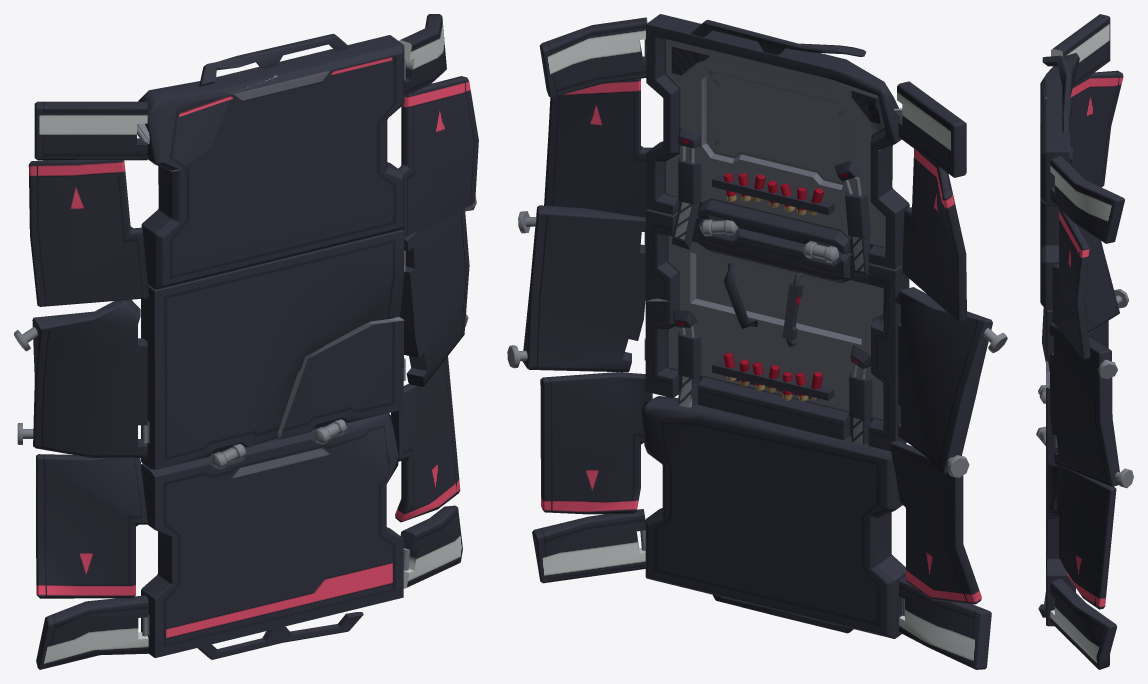
The model's file is FX_Hoshino_Original_Ex01_Obstacle_B.fbx.
3 views of the same model, side by side, from view 1: azimuth 30°, elevation 25°; view 2: azimuth 150°, elevation 25°; view 3: azimuth 270°, elevation 25° (orthographic). The views are drawn at different scales.
Parts seen in each view (by area): view 1: Hoshino_Original_ShieldParts_Weapon10, Hoshino_Original_ShieldParts_Weapon11, Hoshino_Original_ShieldParts_Weapon05, Hoshino_Original_ShieldParts_Weapon02, Hoshino_Original_ShieldParts_Weapon04, Hoshino_Original_ShieldParts_Weapon01, Hoshino_Original_ShieldParts_Weapon08; view 2: Hoshino_Original_ShieldParts_Weapon10, Hoshino_Original_ShieldParts_Weapon11, Hoshino_Original_ShieldParts_Weapon05, Hoshino_Original_ShieldParts_Weapon02, Hoshino_Original_ShieldParts_Weapon04, Hoshino_Original_ShieldParts_Weapon01, Hoshino_Original_ShieldParts_Weapon08; view 3: Hoshino_Original_ShieldParts_Weapon11, Hoshino_Original_ShieldParts_Weapon05, Hoshino_Original_ShieldParts_Weapon10, Hoshino_Original_ShieldParts_Weapon02, Hoshino_Original_ShieldParts_Weapon08, Hoshino_Original_ShieldParts_Weapon01, Hoshino_Original_ShieldParts_Weapon04.
Boxes of the visible parts, x1,y1,x2,y2 form: Hoshino_Original_ShieldParts_Weapon10: (36,317,460,669); Hoshino_Original_ShieldParts_Weapon11: (141,14,478,289); Hoshino_Original_ShieldParts_Weapon05: (141,196,476,469); Hoshino_Original_ShieldParts_Weapon02: (14,160,148,457); Hoshino_Original_ShieldParts_Weapon04: (36,454,147,598); Hoshino_Original_ShieldParts_Weapon01: (34,81,231,170); Hoshino_Original_ShieldParts_Weapon08: (400,505,462,588); Hoshino_Original_ShieldParts_Weapon10: (540,298,991,669); Hoshino_Original_ShieldParts_Weapon11: (539,14,909,278); Hoshino_Original_ShieldParts_Weapon05: (507,205,909,451); Hoshino_Original_ShieldParts_Weapon02: (894,148,1007,477); Hoshino_Original_ShieldParts_Weapon04: (890,440,981,604); Hoshino_Original_ShieldParts_Weapon01: (828,59,966,177); Hoshino_Original_ShieldParts_Weapon08: (532,509,645,583); Hoshino_Original_ShieldParts_Weapon11: (1040,55,1124,359); Hoshino_Original_ShieldParts_Weapon05: (1038,307,1133,488); Hoshino_Original_ShieldParts_Weapon10: (1036,361,1116,626); Hoshino_Original_ShieldParts_Weapon02: (1070,70,1128,332); Hoshino_Original_ShieldParts_Weapon08: (1050,578,1116,669); Hoshino_Original_ShieldParts_Weapon01: (1043,14,1110,95); Hoshino_Original_ShieldParts_Weapon04: (1088,321,1108,348).
Size of the model in its own units: 0.9857 by 1.17 by 0.2055.
1 material, 1 textured.
